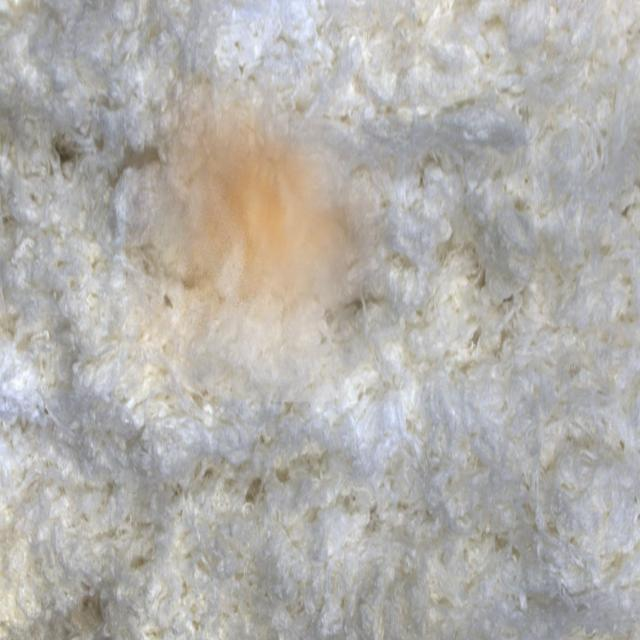dust: (126, 66, 390, 402)
